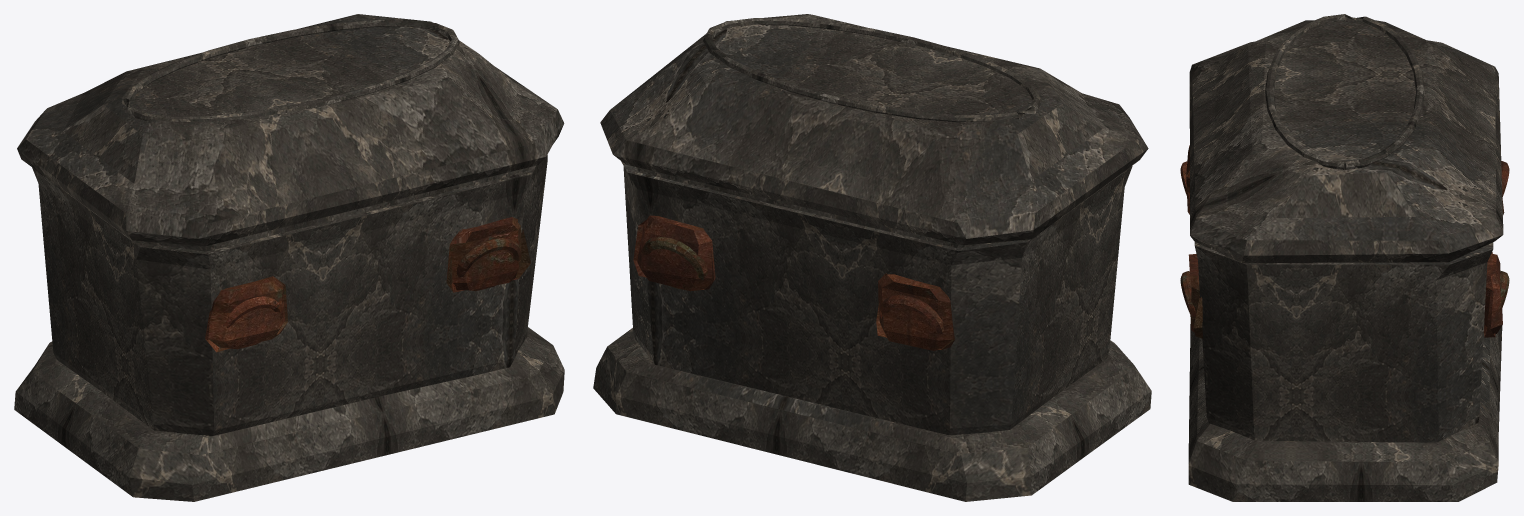
Rendered from crypt_cover_sarcophagus.glb.
3 renders of one model, left to right at view 1: azimuth 30°, elevation 25°; view 2: azimuth 150°, elevation 25°; view 3: azimuth 270°, elevation 25°, orthographic. The views are drawn at different scales.
Visible parts, largest first — view 1: Crypt Cover Sarcophagus Mesh; view 2: Crypt Cover Sarcophagus Mesh; view 3: Crypt Cover Sarcophagus Mesh.
Part boxes in pixels (box(x1,y1,x2,y2)): Crypt Cover Sarcophagus Mesh: box(14, 14, 564, 501); Crypt Cover Sarcophagus Mesh: box(593, 14, 1151, 501); Crypt Cover Sarcophagus Mesh: box(1180, 14, 1509, 501).
Bounding box in the file's own units: 1.52 × 1.1 × 1.04.
3 materials, 3 textured.
